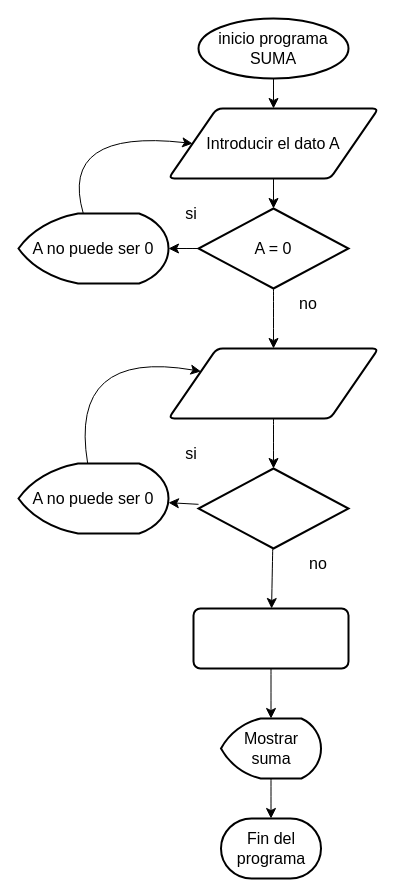
The diagram is 396 pixels wide and 896 high, and some of its shapes have lost their labels. The shapes that lost their labels are listed below. From the top down, each one's box as (x1, y1, x2, y2) in pixels, then its label:
(167, 347, 379, 419): Introducir el dato B
(197, 467, 349, 549): B = 0
(192, 607, 349, 669): suma= A + B
